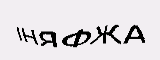Г: (46, 21, 59, 48)
Е: (37, 23, 48, 45)
П: (59, 24, 87, 57)
С: (86, 24, 110, 56), (109, 26, 131, 51)
